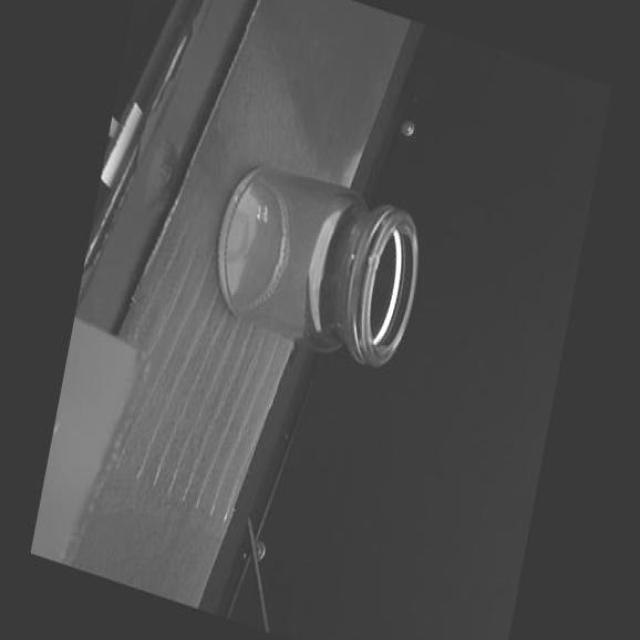defect: (362, 247, 382, 278), (348, 252, 354, 261)
glass: (199, 150, 430, 382)
